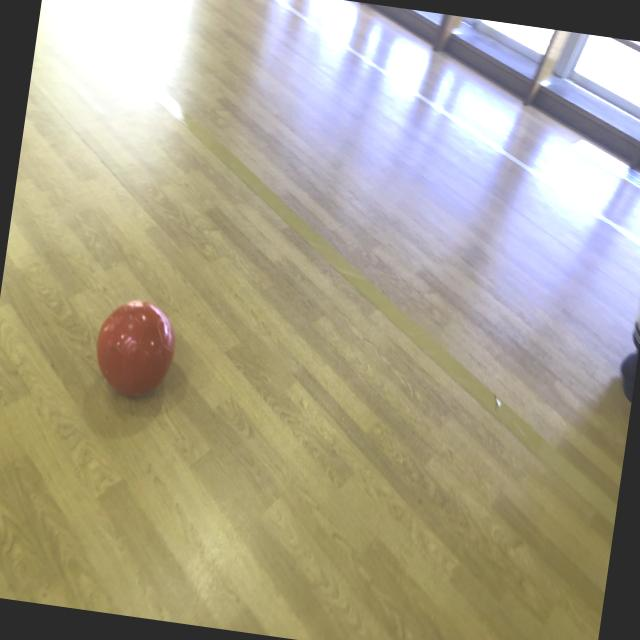red_ball: (94, 294, 182, 402)
